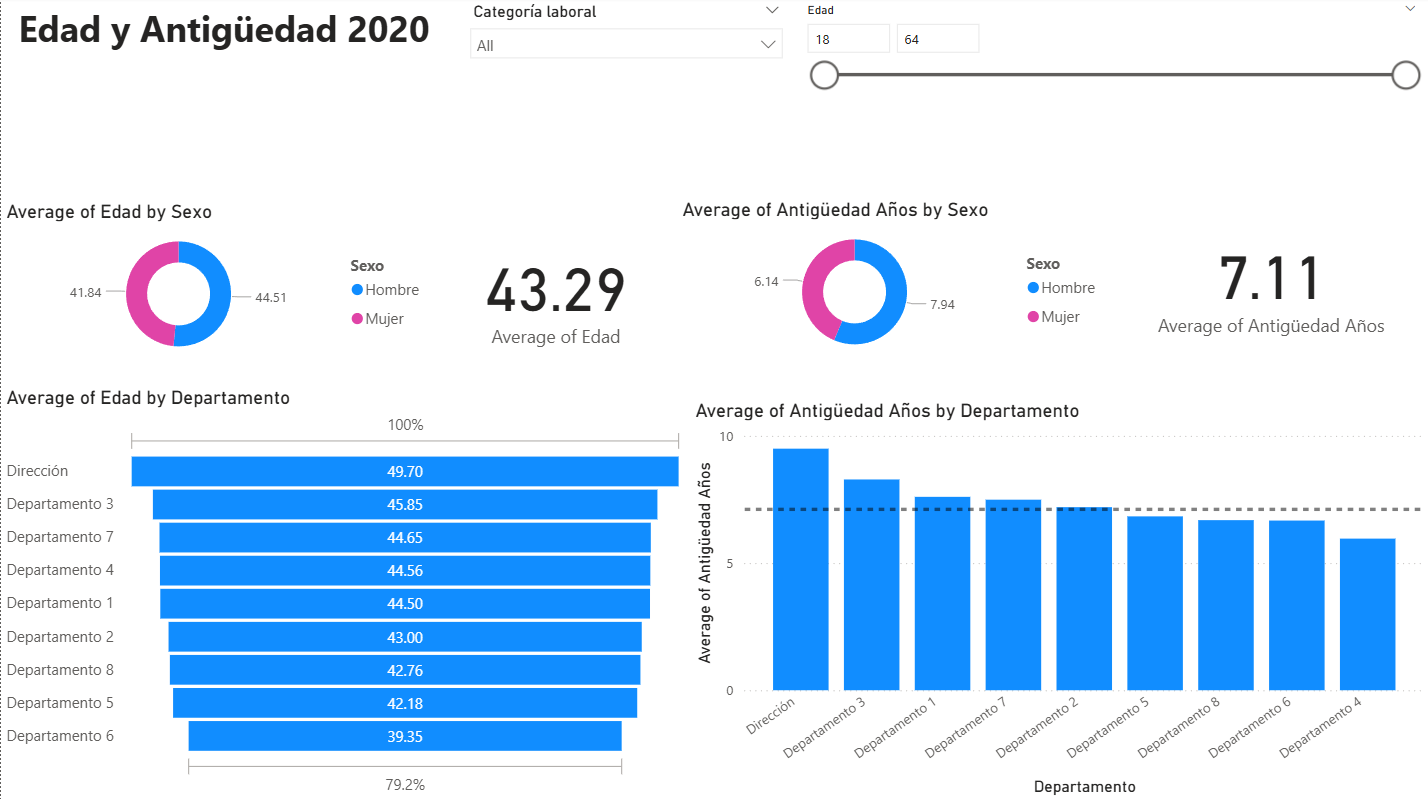

The page's visual inventory and layout, read from the dashboard file:
{"tool":"powerbi","page":{"name":"Edad","canvas":[1280,720],"ordinal":1},"visuals":[{"type":"textbox","box":[10.5,0,389.1,76.7],"z":0},{"type":"slicer","fields":{"Values":["Base de Datos.Categoría laboral"]},"box":[410,0,299.7,76.7],"z":1000},{"type":"slicer","fields":{"Values":["Base de Datos.Edad"]},"box":[709.7,0,570.3,120.8],"z":2000},{"type":"funnel","fields":{"Y":["Avg(Base de Datos.Edad)"],"Category":["Base de Datos.Departamento"]},"box":[0,348.7,616.8,370.9],"z":3000},{"type":"clusteredColumnChart","fields":{"Y":["Avg(Base de Datos.Antigüedad Años)"],"Category":["Base de Datos.Departamento"]},"box":[616.8,359.8,663.2,359.8],"z":4000},{"type":"card","fields":{"Values":["Avg(Base de Datos.Antigüedad Años)"]},"box":[994.8,180.4,285.2,150.2],"z":5000},{"type":"donutChart","fields":{"Y":["Avg(Base de Datos.Antigüedad Años)"],"Category":["Base de Datos.Sexo"]},"box":[605.7,180.4,389,149.2],"z":6000},{"type":"donutChart","fields":{"Category":["Base de Datos.Sexo"],"Y":["Avg(Base de Datos.Edad)"]},"box":[0,181.4,389,149.2],"z":7000},{"type":"card","fields":{"Values":["Avg(Base de Datos.Edad)"]},"box":[389,181.4,216.7,167.3],"z":8000}]}

Visuals, with their boxes in screenshot pixels (x1, y1, x2, y2), scaled from the page's 1280x720 canvas onto the 1428x799 screenshot:
textbox: 12/0/446/85
slicer - Base de Datos.Categoría laboral: 457/0/792/85
slicer - Base de Datos.Edad: 792/0/1427/134
funnel - Avg(Base de Datos.Edad) x Base de Datos.Departamento: 0/387/688/798
clusteredColumnChart - Avg(Base de Datos.Antigüedad Años) x Base de Datos.Departamento: 688/399/1427/798
card - Avg(Base de Datos.Antigüedad Años): 1110/200/1427/367
donutChart - Avg(Base de Datos.Antigüedad Años) x Base de Datos.Sexo: 676/200/1110/366
donutChart - Base de Datos.Sexo x Avg(Base de Datos.Edad): 0/201/434/367
card - Avg(Base de Datos.Edad): 434/201/676/387
